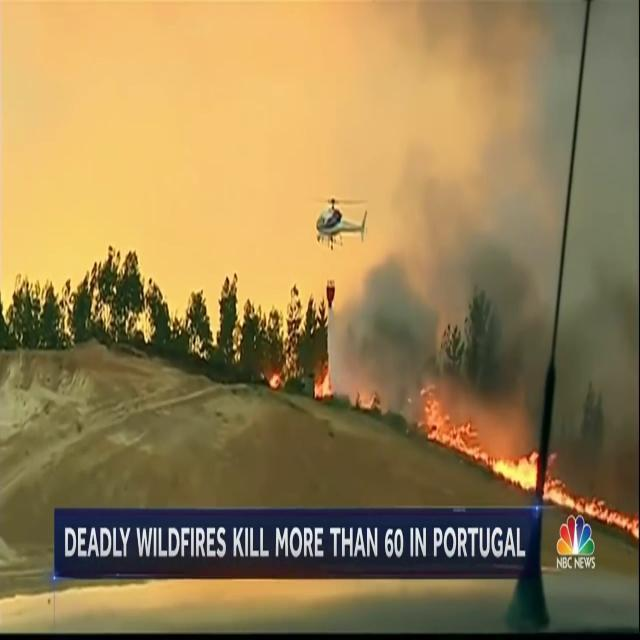Fire: (418, 381, 482, 463), (548, 478, 628, 531), (483, 439, 542, 494), (314, 362, 334, 403)
Smoke: (330, 12, 634, 396)
